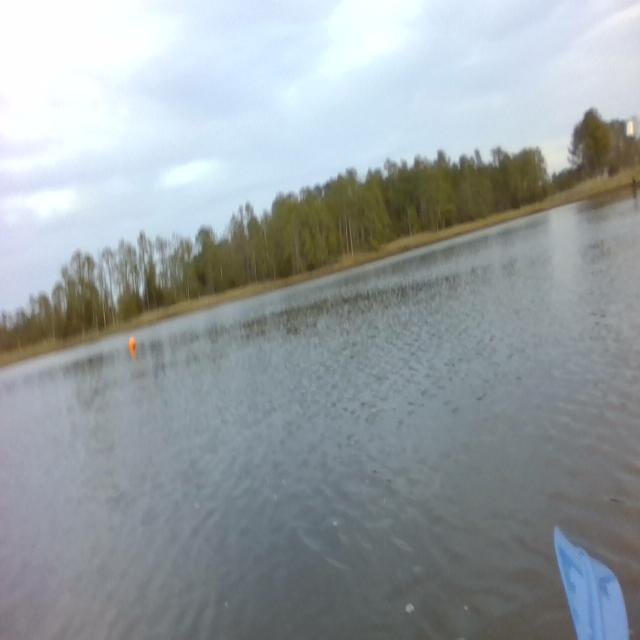Buoy: (127, 334, 138, 356)
